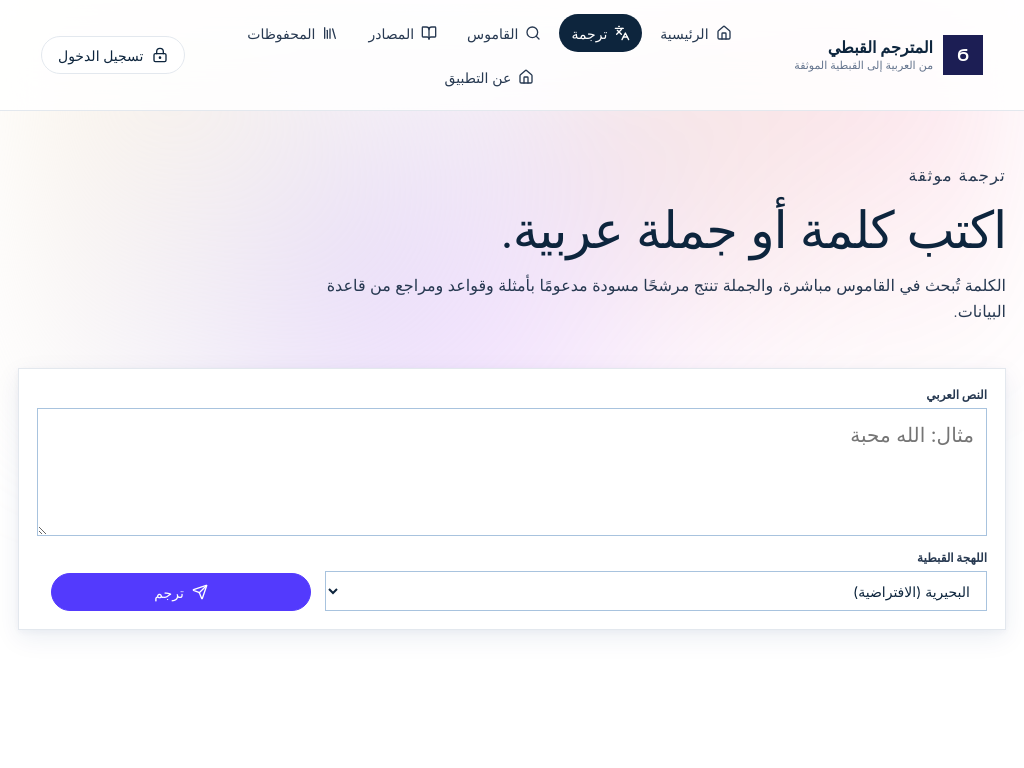
TranslatePage › submits word translation and displays confidence
The image size is (1024, 768).
Type "سلام" into the text box with placeholder "مثال: الله محبة" at [512, 472], box [37,408,987,536]
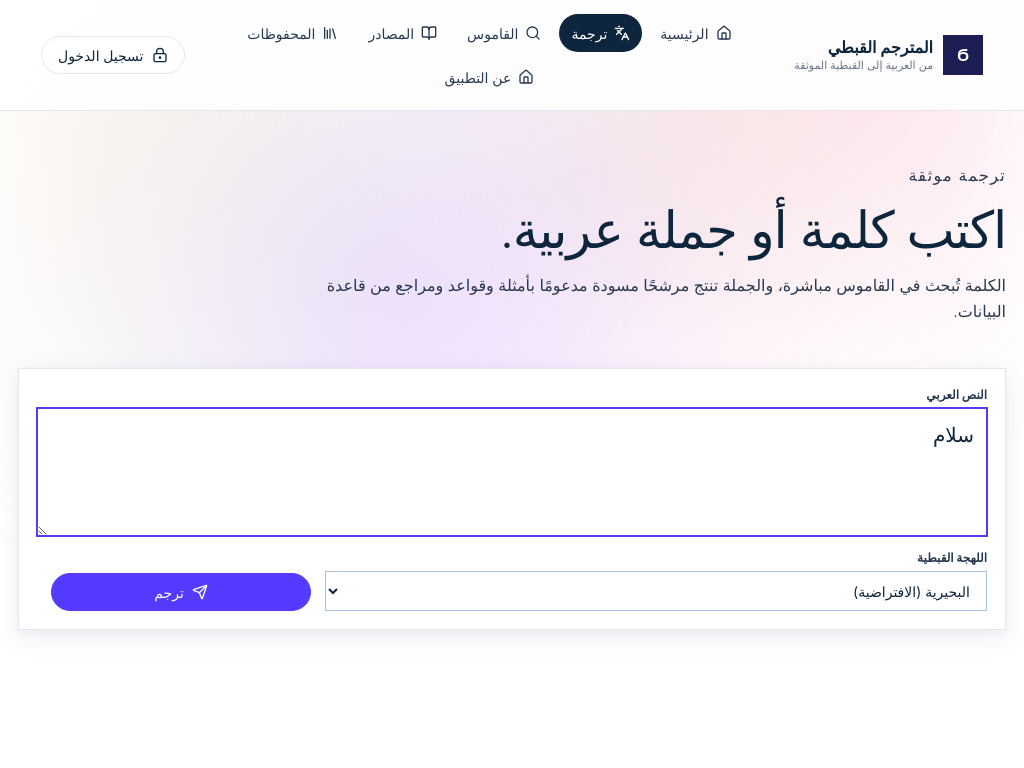
Click the button "ترجم" at [181, 592], box [51,573,311,611]
(page scrolled)
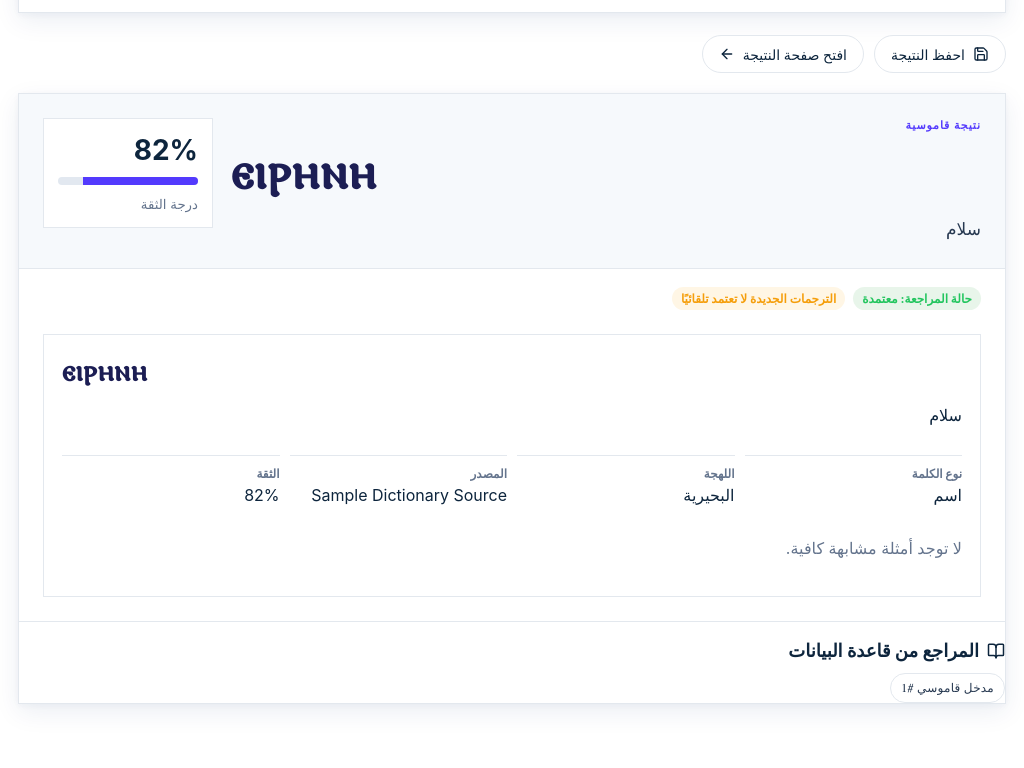
Expected: the heading "ⲉⲓⲣⲏⲛⲏ" below "نتيجة قاموسية" is shown, [231,139,377,206]
Expected: the 1st text "82%" is shown, [134,133,198,167]
Expected: the text "Sample Dictionary Source" is shown, [290,485,507,505]
